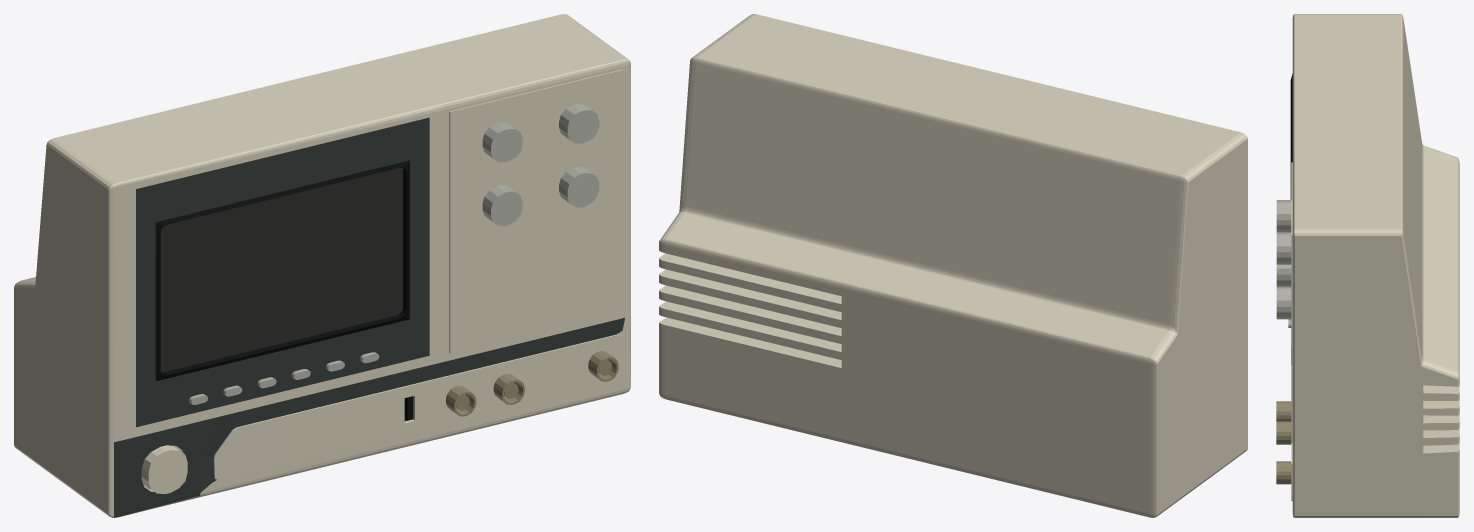
Rendered from osciloscopio.glb.
The picture shows the model from 3 angles, left to right: view 1: azimuth 30°, elevation 25°; view 2: azimuth 150°, elevation 25°; view 3: azimuth 270°, elevation 25°; orthographic projection. The views are drawn at different scales.
Parts seen in each view (by area): view 1: Cube; view 2: Cube; view 3: Cube.
Boxes of the visible parts, x1=… form: Cube: x1=14, y1=14, x2=630, y2=517; Cube: x1=659, y1=14, x2=1247, y2=517; Cube: x1=1276, y1=14, x2=1459, y2=517.
Bounding box in the file's own units: 0.4914 × 0.3006 × 0.173.
